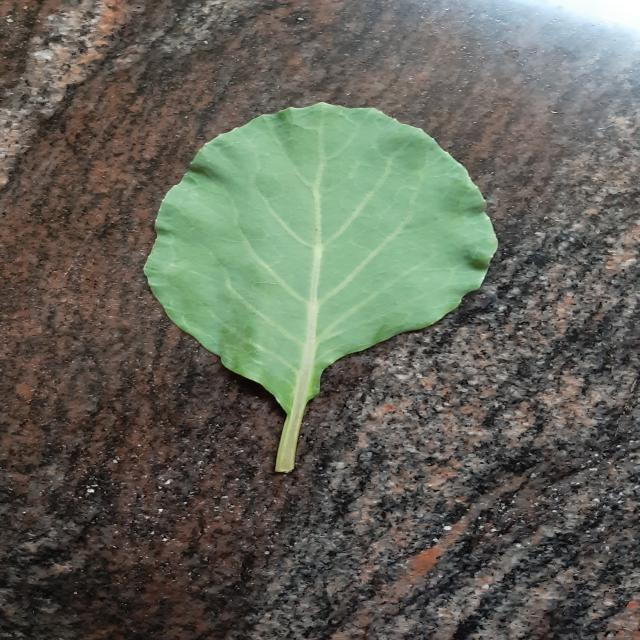Kohlrabi: (144, 102, 498, 472)
